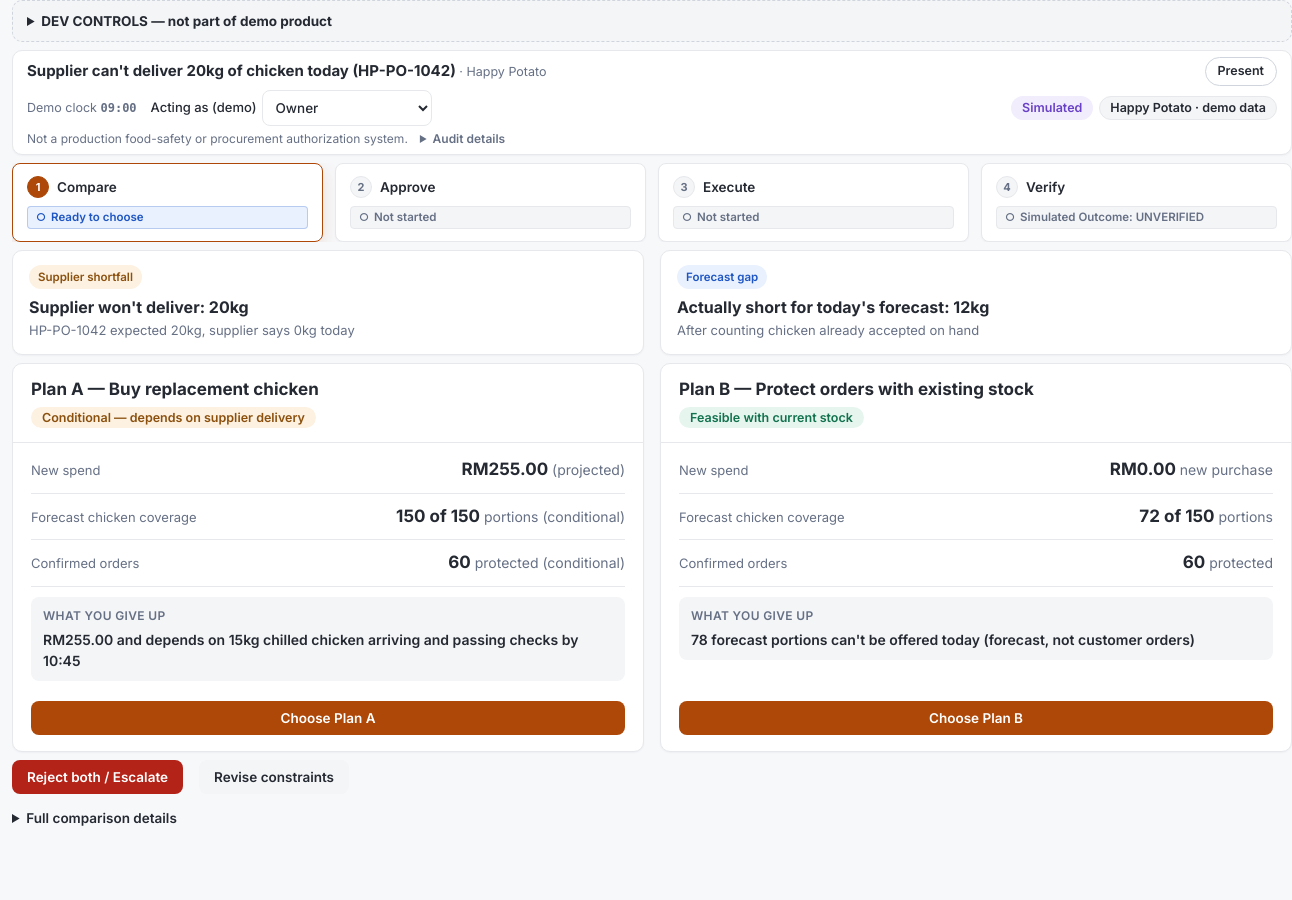
Scenario: Recovery Comparison › Choose A saves selection only — no approval, no tasks (P5-T03/T04)
Click the button "Choose Plan A" at (328, 718), box [31,701,625,735]
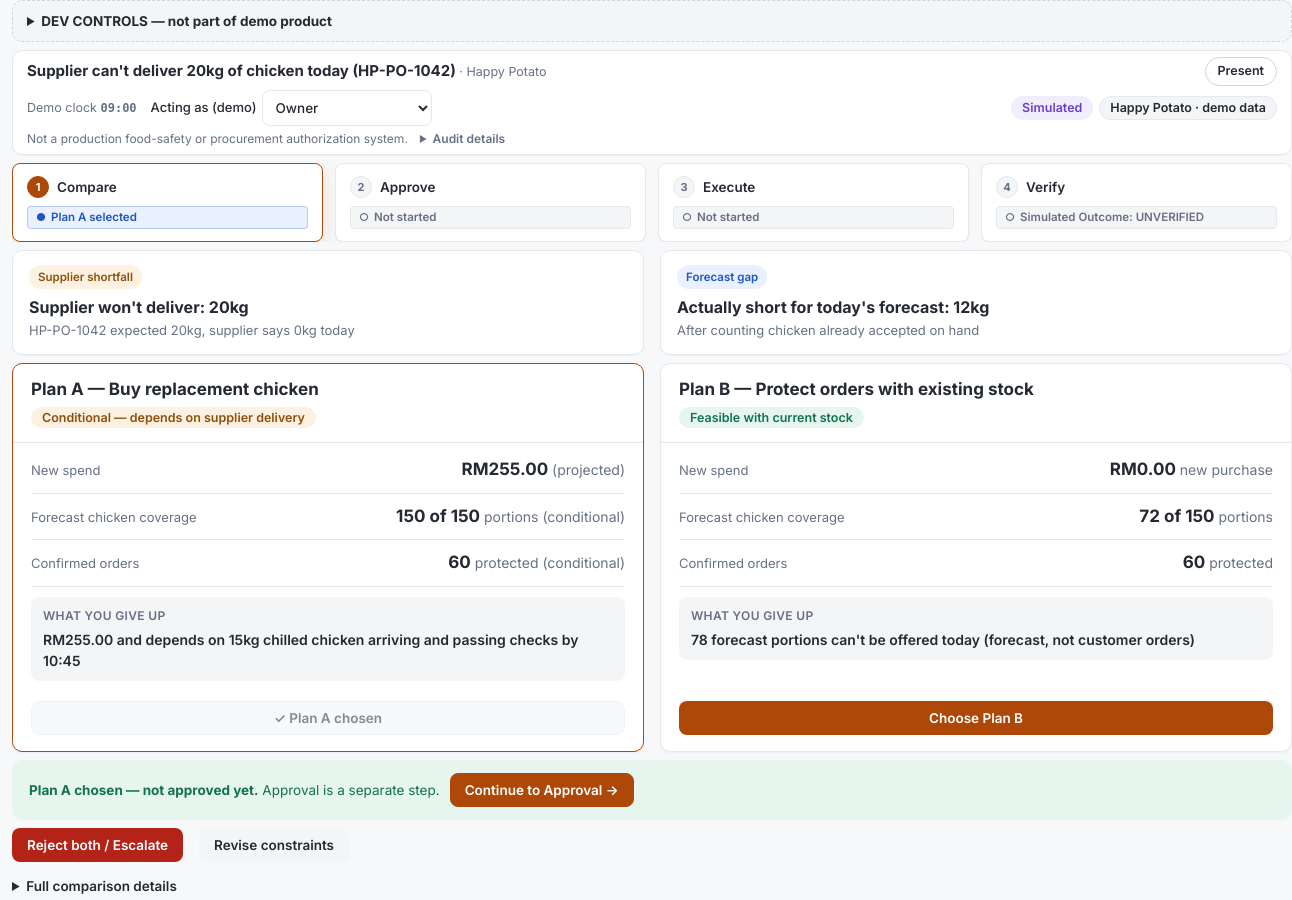
expect the link to "/approvals" is shown: met, box [450,773,634,807]
